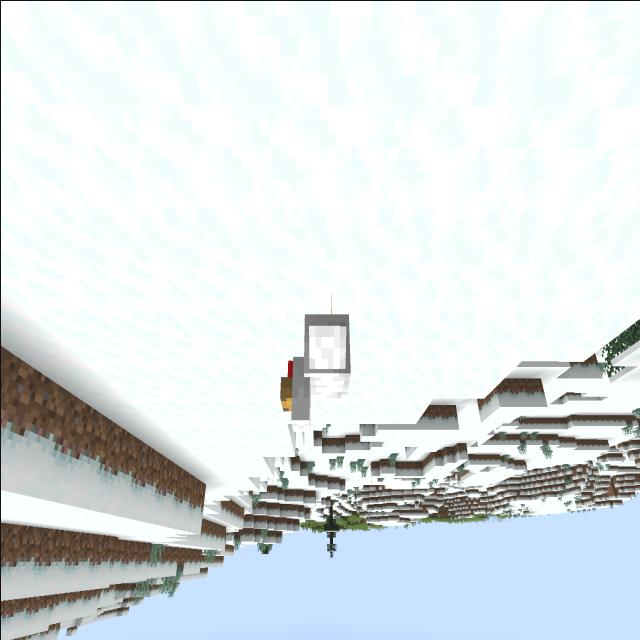chicken: (274, 280, 360, 447)
